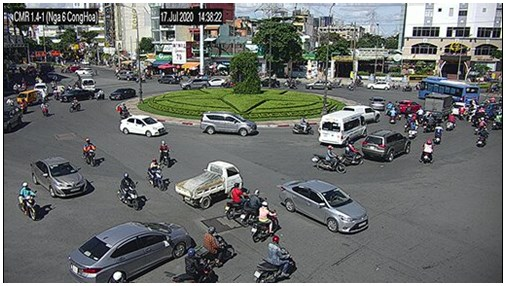xe_ban_tai: (116, 70, 140, 81)
xe_buyt: (418, 77, 479, 108)
xe_hoi: (69, 221, 190, 282), (280, 179, 368, 234), (31, 157, 86, 197), (362, 130, 410, 163), (201, 111, 258, 138), (120, 115, 166, 137), (342, 105, 380, 125), (4, 105, 22, 133), (16, 90, 42, 107), (58, 90, 93, 101), (397, 99, 422, 114), (178, 78, 209, 90), (108, 87, 134, 101), (305, 80, 331, 90), (369, 95, 385, 111), (367, 80, 390, 91), (157, 75, 178, 85), (208, 78, 228, 88)
xe_may: (254, 237, 296, 283), (197, 226, 235, 266), (174, 248, 217, 283), (252, 201, 281, 244), (225, 184, 256, 220), (312, 144, 345, 174), (242, 188, 268, 225), (119, 172, 140, 210), (19, 182, 39, 221), (147, 157, 165, 191), (340, 141, 364, 166), (293, 118, 314, 136), (84, 138, 96, 167), (421, 139, 434, 165), (160, 139, 171, 168), (408, 119, 418, 140), (477, 126, 487, 147), (433, 123, 442, 145), (476, 117, 488, 132), (70, 97, 81, 113), (446, 112, 455, 130), (40, 99, 48, 117), (119, 103, 128, 118), (457, 105, 465, 120), (347, 80, 357, 92), (403, 82, 413, 93), (96, 89, 105, 101), (20, 100, 27, 114)
xe_tai: (175, 160, 243, 209), (425, 94, 453, 114), (78, 73, 95, 91)
